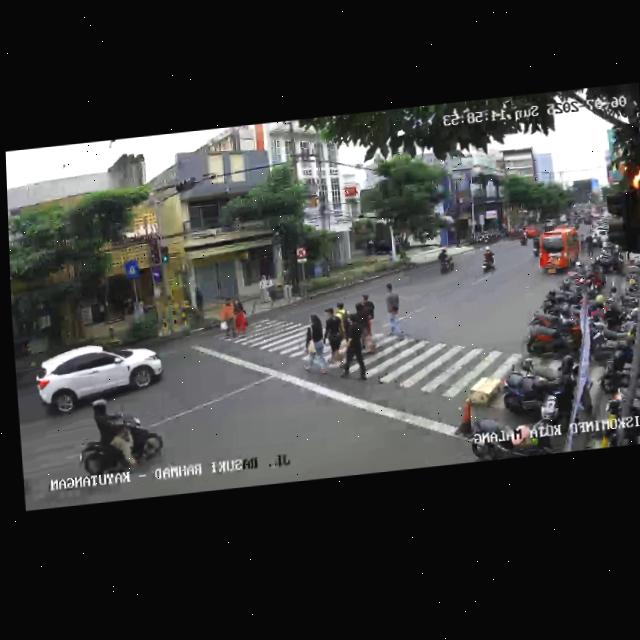car: (33, 334, 163, 416), (535, 226, 582, 277)
motorcycle: (74, 392, 162, 490), (435, 246, 456, 276), (477, 245, 496, 276)
person: (336, 314, 366, 382), (381, 281, 406, 345), (321, 305, 343, 366), (353, 301, 374, 355), (305, 312, 324, 368), (218, 296, 236, 340), (233, 297, 247, 337), (334, 300, 351, 332), (280, 264, 293, 302), (360, 293, 376, 321), (258, 274, 268, 304), (266, 274, 274, 304)
